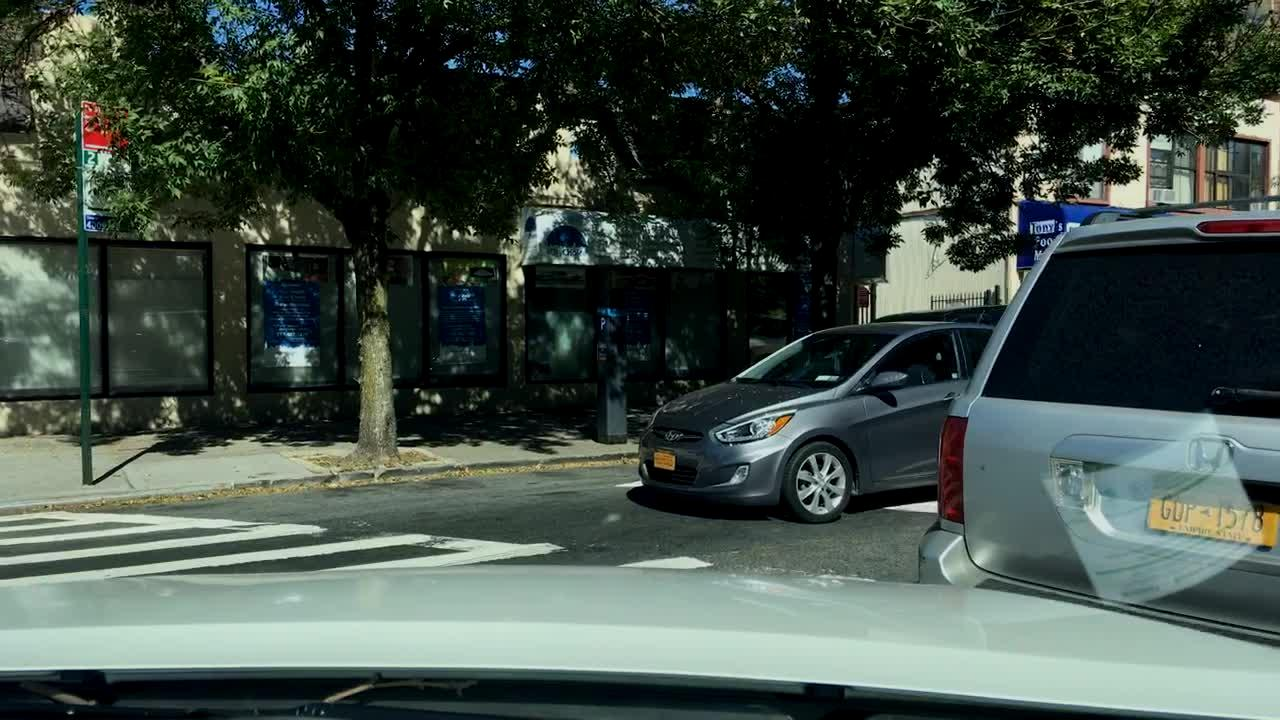Honda: (1186, 438, 1234, 481)
Hyundai: (656, 424, 685, 447)
